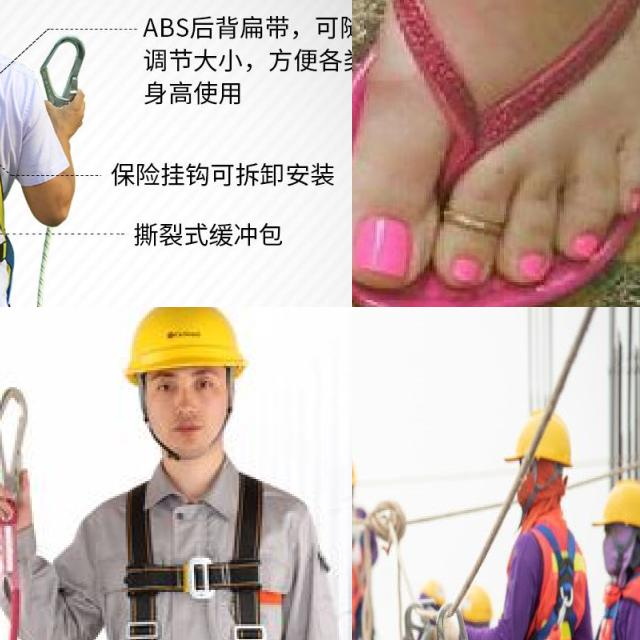Barefoots: (352, 0, 635, 307)
Harness: (96, 468, 301, 640), (501, 518, 589, 640), (352, 508, 373, 640)
